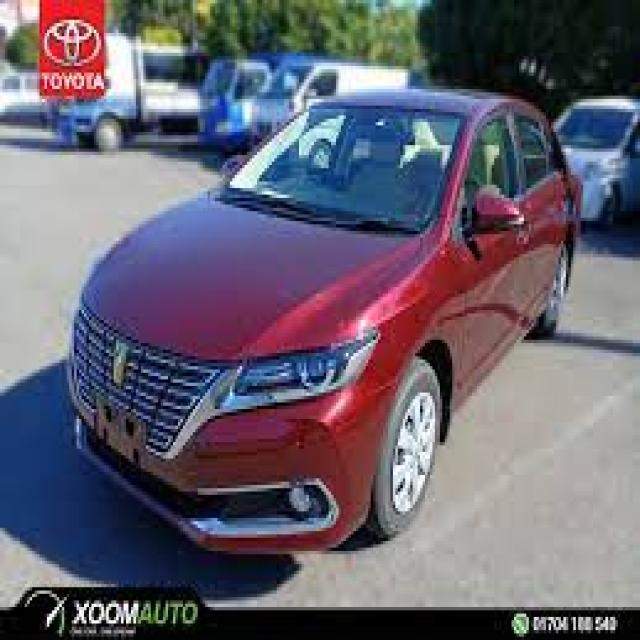maroon: (63, 84, 582, 558)
white: (561, 96, 640, 220)
